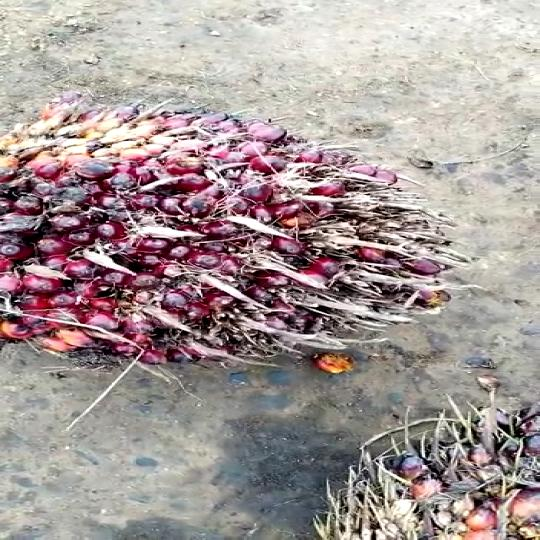masak: (0, 93, 456, 371)
